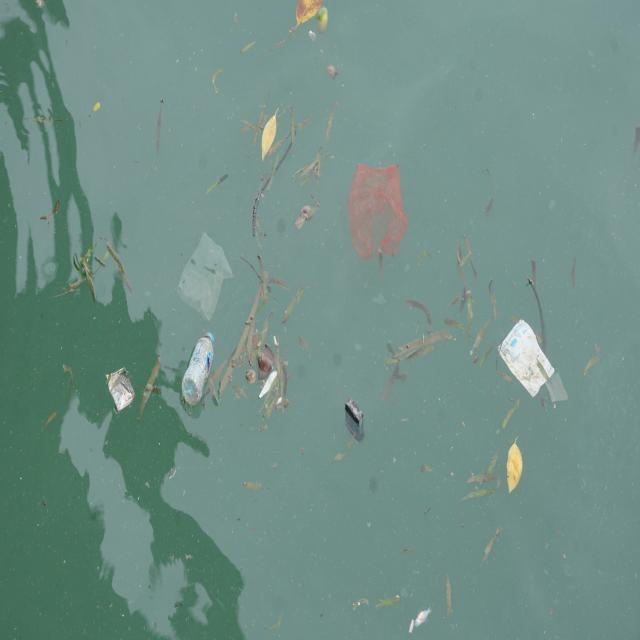Botol Plastik: (182, 329, 217, 410)
Bungkus Makanan: (500, 318, 556, 399), (106, 364, 138, 418)
Kantong Plastik: (348, 162, 410, 264), (179, 231, 234, 327)
